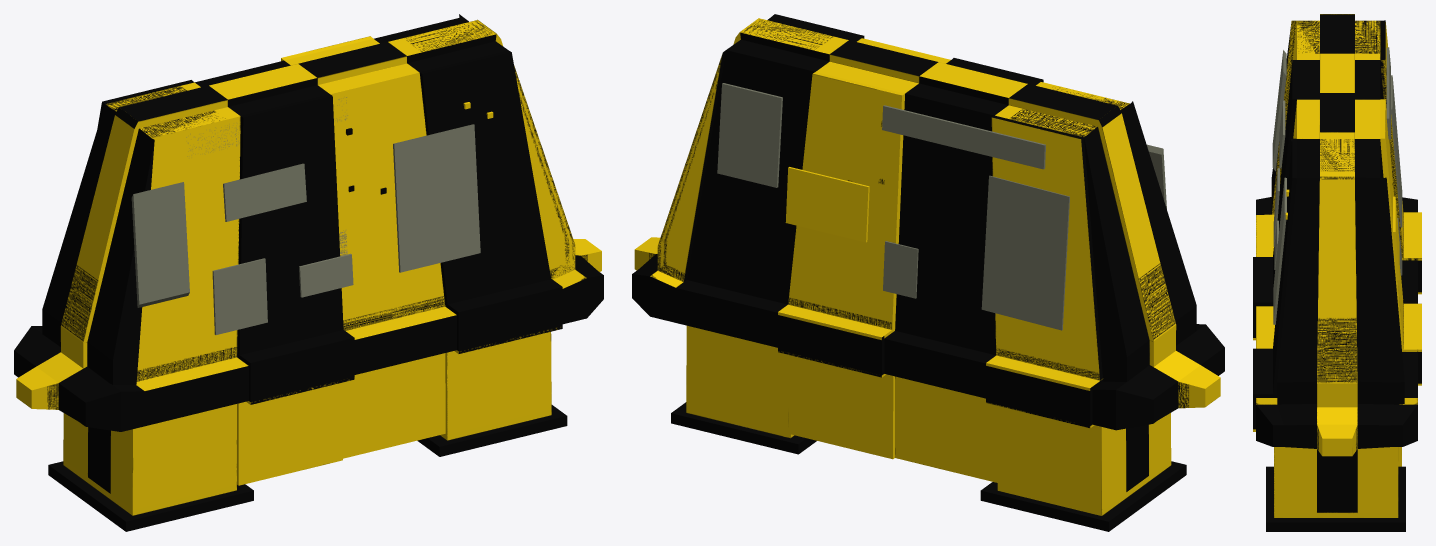
Rendered from Game Prop 3 .fbx.
3 views of the same model, side by side, from view 1: azimuth 30°, elevation 25°; view 2: azimuth 150°, elevation 25°; view 3: azimuth 270°, elevation 25° (orthographic). The views are drawn at different scales.
Visible parts, largest first — view 1: Cube, Cube.001; view 2: Cube, Cube.001; view 3: Cube, Cube.001.
Part boxes in pixels (x1=…): Cube: x1=14, y1=14, x2=603, y2=531; Cube.001: x1=131, y1=102, x2=493, y2=334; Cube: x1=632, y1=14, x2=1224, y2=531; Cube.001: x1=717, y1=83, x2=1166, y2=330; Cube: x1=1253, y1=14, x2=1421, y2=531; Cube.001: x1=1272, y1=47, x2=1402, y2=324.
Bounding box in the file's own units: 302 × 192 × 85.9.
5 materials, 1 textured.
